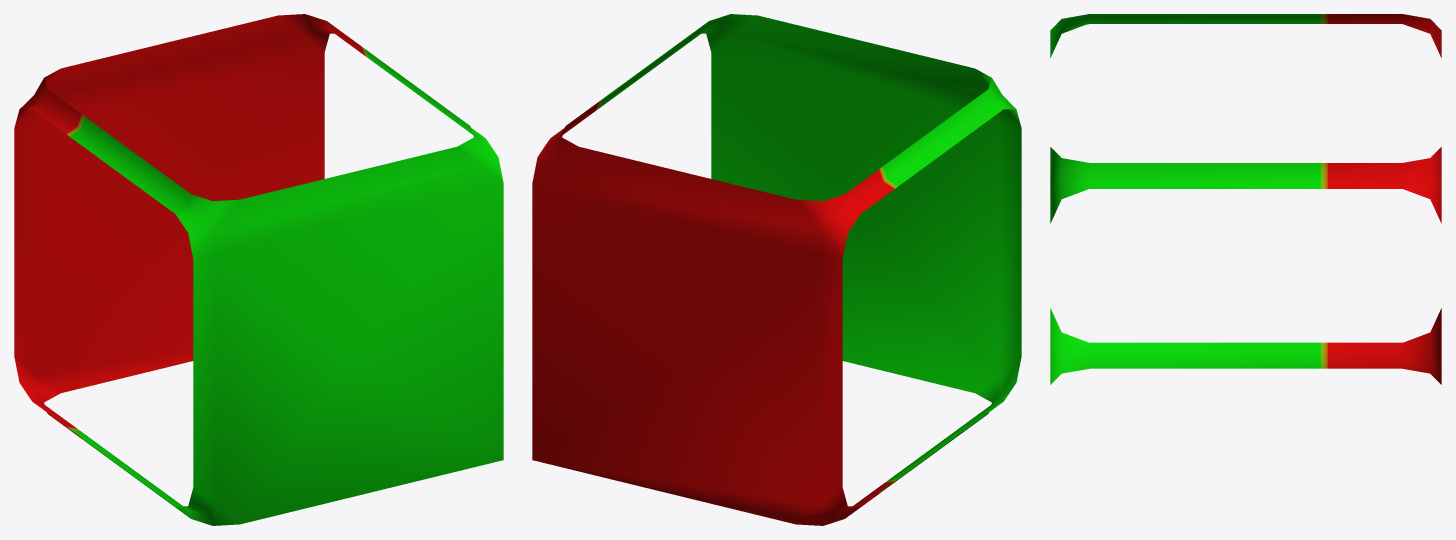
File: Grass-┘ ┌└.fbx
3 renders of one model, left to right at view 1: azimuth 30°, elevation 25°; view 2: azimuth 150°, elevation 25°; view 3: azimuth 270°, elevation 25°, orthographic. The views are drawn at different scales.
Parts seen in each view (by area): view 1: Grass-┘ ┌└; view 2: Grass-┘ ┌└; view 3: Grass-┘ ┌└.
Boxes of the visible parts, x1,y1,x2,y2 form: Grass-┘ ┌└: (14, 14, 503, 525); Grass-┘ ┌└: (532, 14, 1021, 525); Grass-┘ ┌└: (1050, 14, 1441, 384).
Bounding box in the file's own units: 100 × 100 × 100.
